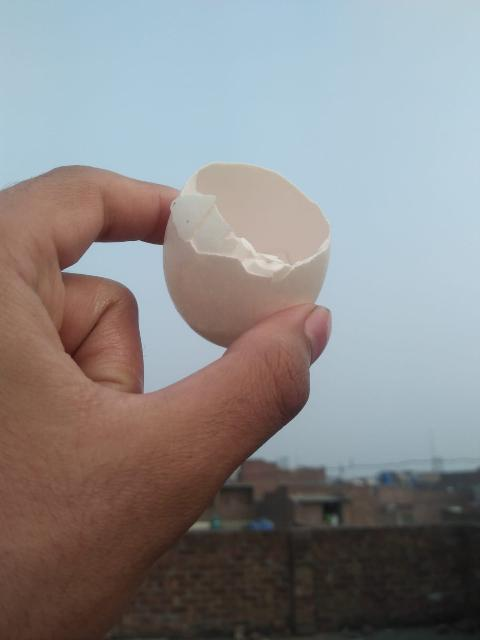Roto: (161, 160, 331, 348)
